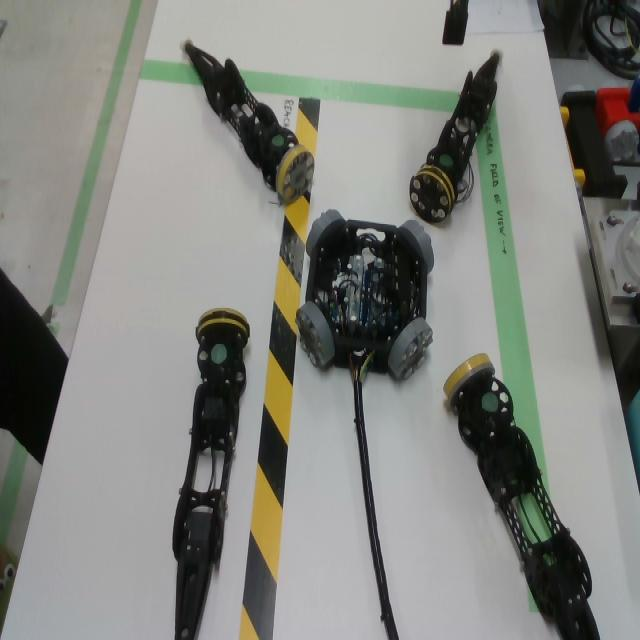body: (305, 220, 427, 375)
body_connector: (387, 317, 433, 383), (296, 303, 336, 371), (398, 220, 435, 275), (305, 209, 345, 256)
leg: (442, 353, 601, 640), (172, 308, 251, 640), (180, 36, 314, 203), (409, 47, 504, 224)
leg_connector: (409, 164, 457, 225), (443, 353, 495, 401), (275, 145, 315, 203), (195, 308, 251, 348)
leg_marker: (211, 344, 228, 364), (481, 393, 498, 413), (439, 153, 453, 167), (271, 135, 284, 145)
